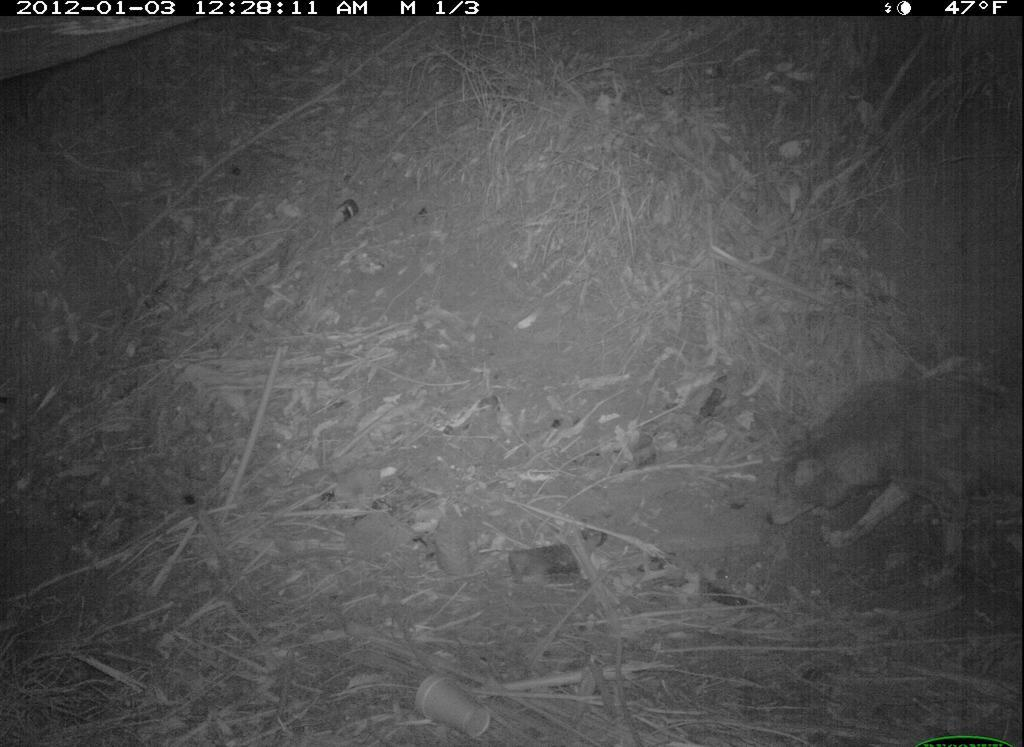coyote: (762, 356, 1019, 601)
